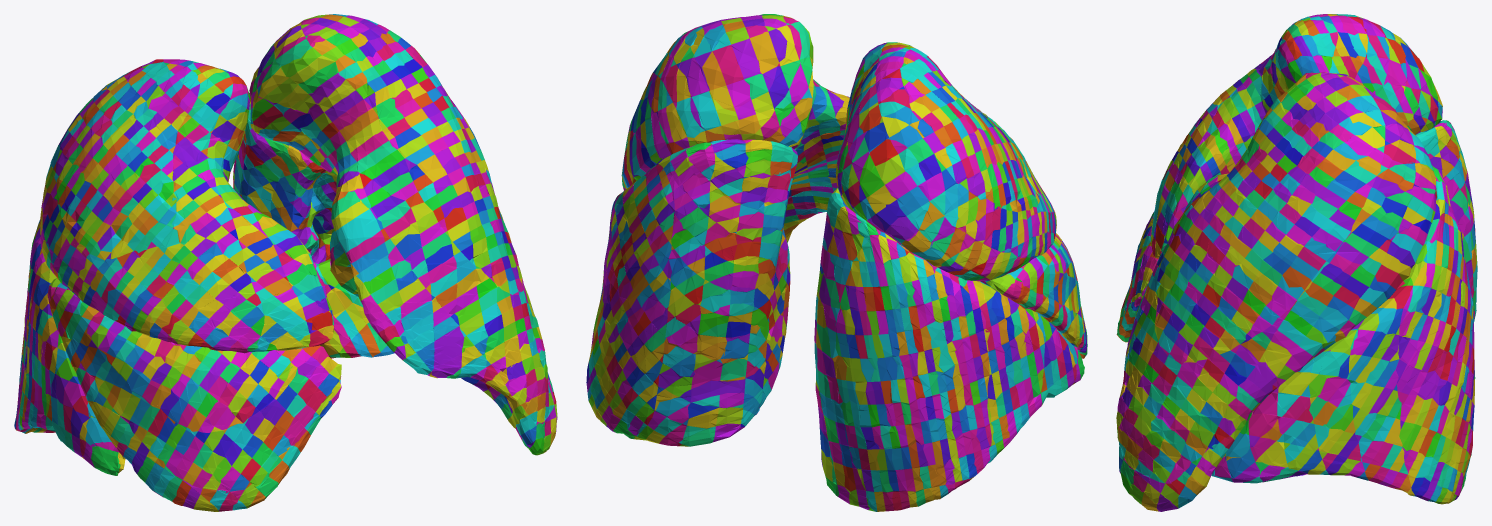
The model's file is lung-male-large.glb.
The picture shows the model from 3 angles, left to right: view 1: azimuth 30°, elevation 25°; view 2: azimuth 150°, elevation 25°; view 3: azimuth 270°, elevation 25°; orthographic projection. The views are drawn at different scales.
Parts seen in each view (by area): view 1: RLL-1D11; view 2: LUL-1B5, LUL-1B6, LUL-1B7, LUL-2C9, LUL-3C10; view 3: LLL-30D12, LLL-30E14, LLL-29C11, LUL-10C13, LUL-11B12, LUL-10B12, LLL-30F15, LUL-13C13, LUL-17A11.
Part boxes in pixels (bbox=[...]): RLL-1D11: bbox=[91, 446, 120, 475]; LUL-1B5: bbox=[750, 31, 778, 73]; LUL-1B6: bbox=[731, 38, 761, 79]; LUL-1B7: bbox=[712, 45, 743, 85]; LUL-2C9: bbox=[691, 91, 721, 130]; LUL-3C10: bbox=[676, 97, 704, 137]; LLL-30D12: bbox=[1278, 371, 1311, 395]; LLL-30E14: bbox=[1248, 412, 1277, 437]; LLL-29C11: bbox=[1319, 351, 1349, 376]; LUL-10C13: bbox=[1392, 233, 1422, 262]; LUL-11B12: bbox=[1352, 223, 1389, 247]; LUL-10B12: bbox=[1362, 215, 1397, 239]; LLL-30F15: bbox=[1226, 433, 1249, 457]; LUL-13C13: bbox=[1375, 264, 1404, 289]; LUL-17A11: bbox=[1282, 266, 1311, 290].
Bounding box in the file's own units: 0.2589 × 0.2281 × 0.1897.
